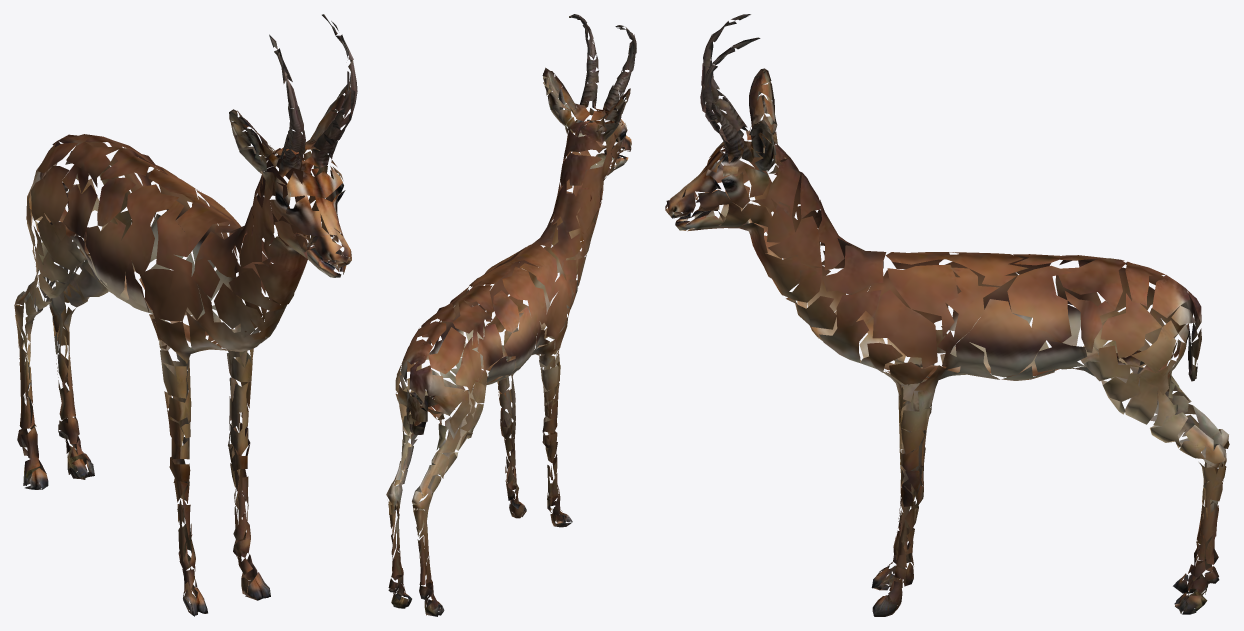
Rendered from antilope.glb.
The picture shows the model from 3 angles, left to right: view 1: azimuth 30°, elevation 25°; view 2: azimuth 150°, elevation 25°; view 3: azimuth 270°, elevation 25°; orthographic projection. The views are drawn at different scales.
Size of the model in its own units: 0.397 by 2 by 1.77.
1 material, 1 textured.
